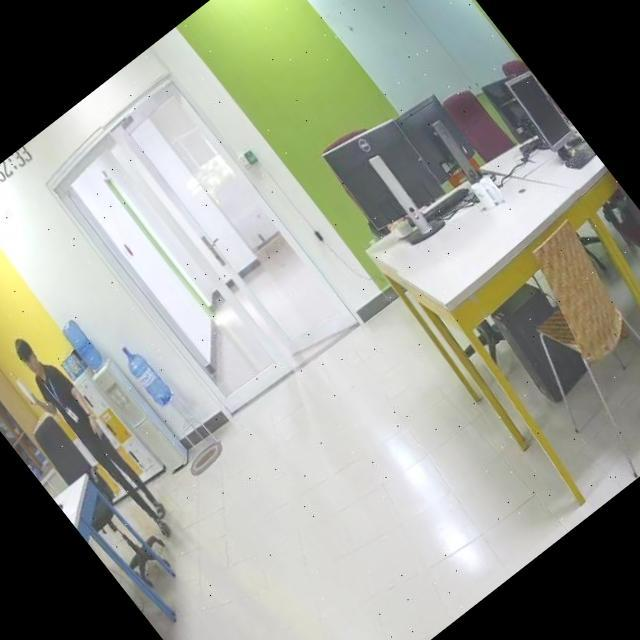person: (0, 328, 183, 553)
